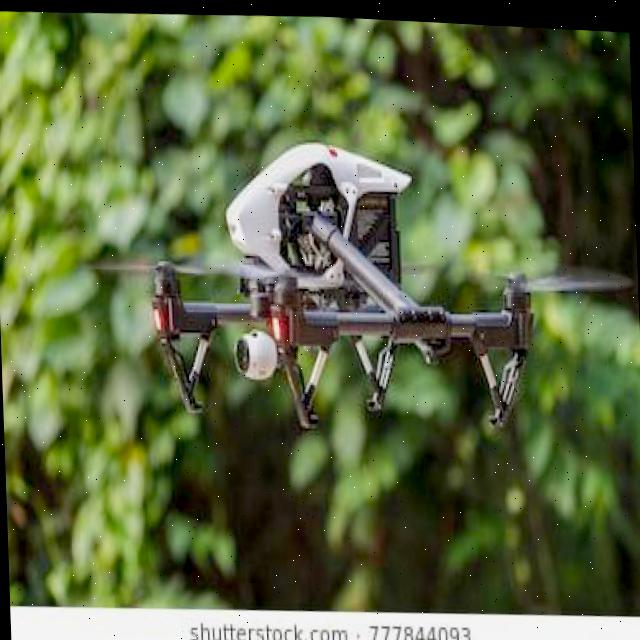drone: (65, 111, 640, 462)
